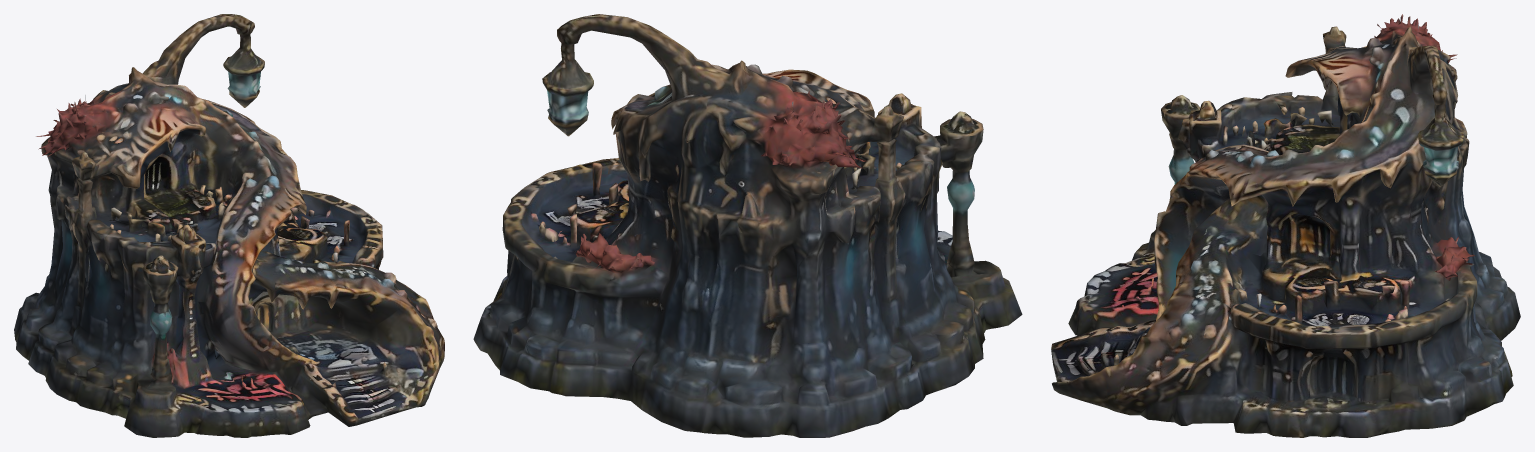
3 views of the same model, side by side, from view 1: azimuth 30°, elevation 25°; view 2: azimuth 150°, elevation 25°; view 3: azimuth 270°, elevation 25° (orthographic). The views are drawn at different scales.
Parts seen in each view (by area): view 1: tripo_node_9af27879-73d9-4c01-a021-16ef16bf9311; view 2: tripo_node_9af27879-73d9-4c01-a021-16ef16bf9311; view 3: tripo_node_9af27879-73d9-4c01-a021-16ef16bf9311.
Boxes of the visible parts, left/top/right/bottom form: tripo_node_9af27879-73d9-4c01-a021-16ef16bf9311: left=14, top=14, right=444, bottom=437; tripo_node_9af27879-73d9-4c01-a021-16ef16bf9311: left=473, top=14, right=1022, bottom=437; tripo_node_9af27879-73d9-4c01-a021-16ef16bf9311: left=1051, top=14, right=1520, bottom=437.
Bounding box in the file's own units: 3.47 × 2.68 × 3.6.
Materials: 1 (1 with a texture image).
